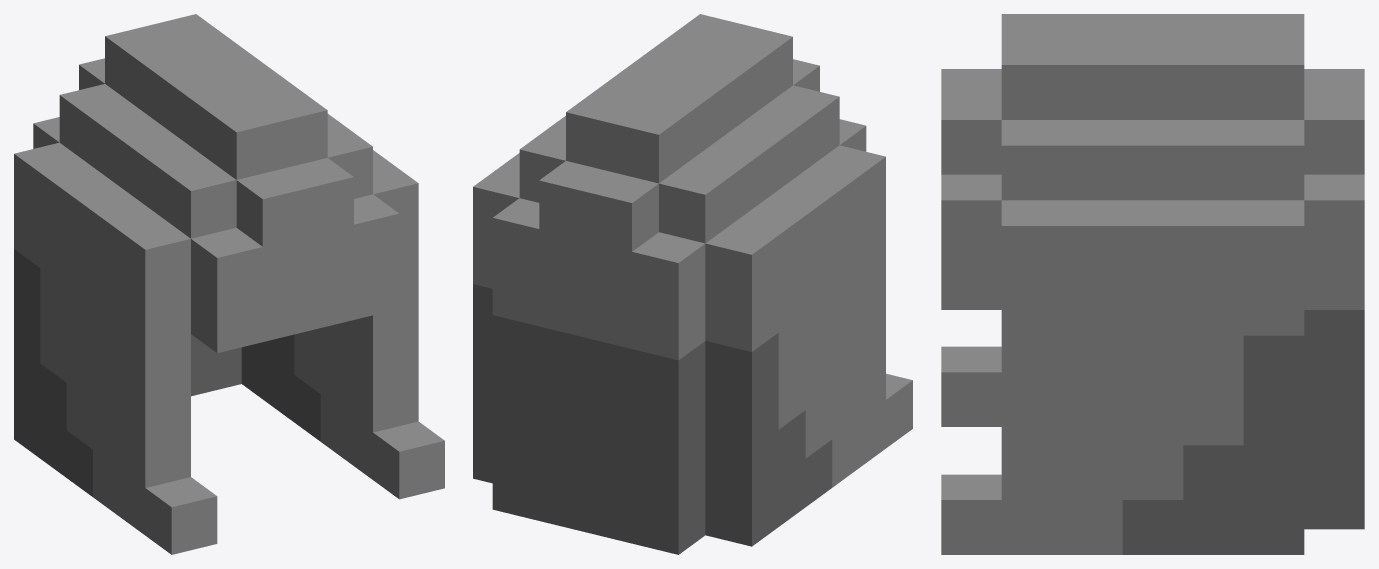
Rendered from humanoid-245-helm_med_2d_du.obj.
3 renders of one model, left to right at view 1: azimuth 30°, elevation 25°; view 2: azimuth 150°, elevation 25°; view 3: azimuth 270°, elevation 25°, orthographic. The views are drawn at different scales.
Visible parts, largest first — view 1: helm_med_2d_du; view 2: helm_med_2d_du; view 3: helm_med_2d_du.
Boxes of the visible parts, bbox=[...] form: helm_med_2d_du: bbox=[14, 14, 444, 554]; helm_med_2d_du: bbox=[473, 14, 912, 554]; helm_med_2d_du: bbox=[941, 14, 1364, 554].
Size of the model in its own units: 0.6 by 0.8 by 0.7.
1 material, 1 textured.
